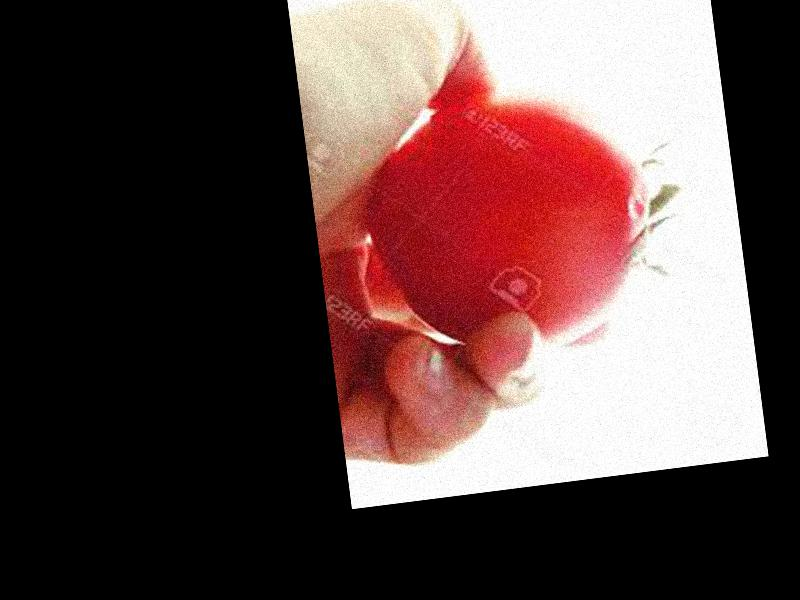Tomato: (359, 77, 669, 369)
